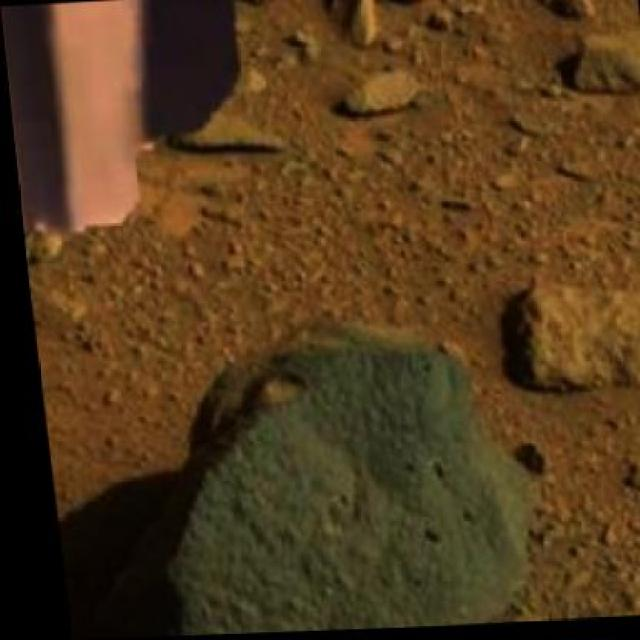rock: (51, 208, 551, 638), (476, 174, 638, 291), (554, 0, 637, 22)
